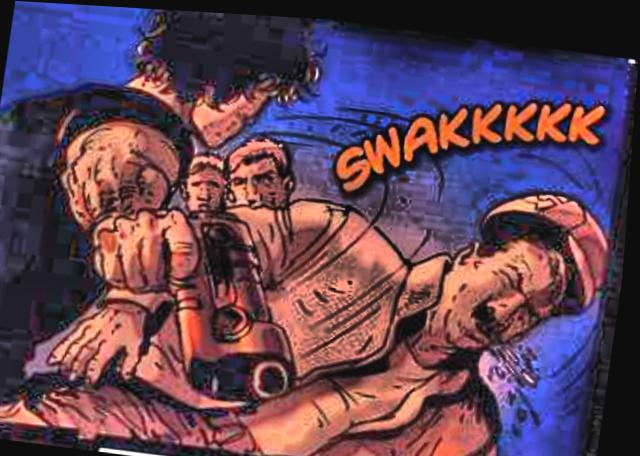pistol: (47, 184, 322, 400)
